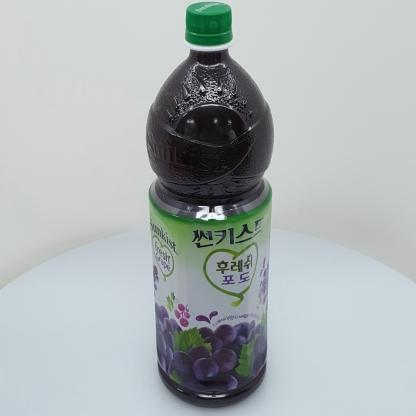-------50_1-5L: (146, 2, 274, 408)
